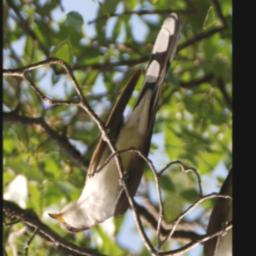Cuckoo: (44, 0, 196, 256)
